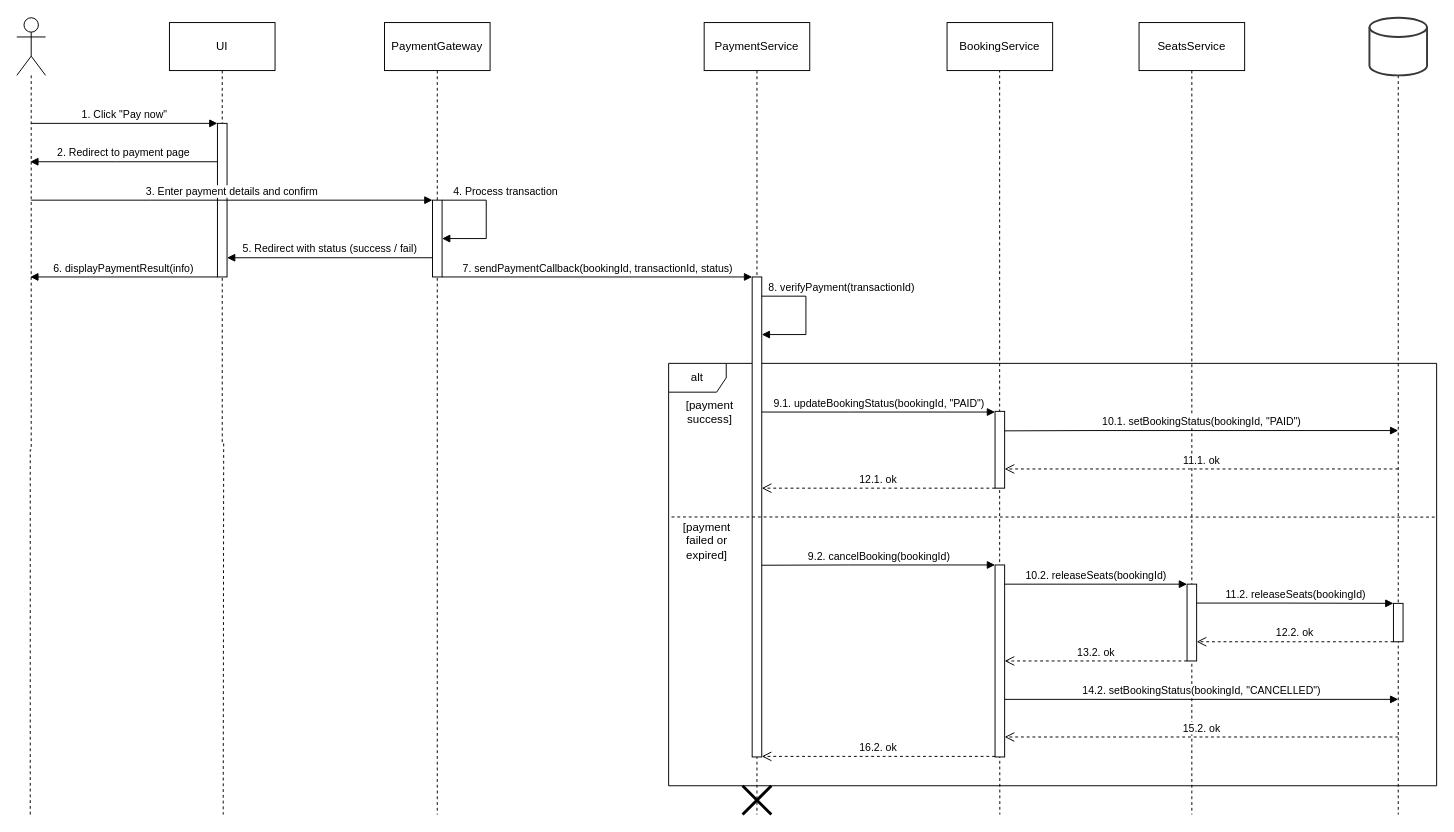
The diagram is 1454 pixels wide and 832 high, and some of its shapes have lost their labels. The centre of each missing label's shape, as x and y in pixels:
"DB" belongs at pixel 1398 46.
"User" belongs at pixel 31 46.
